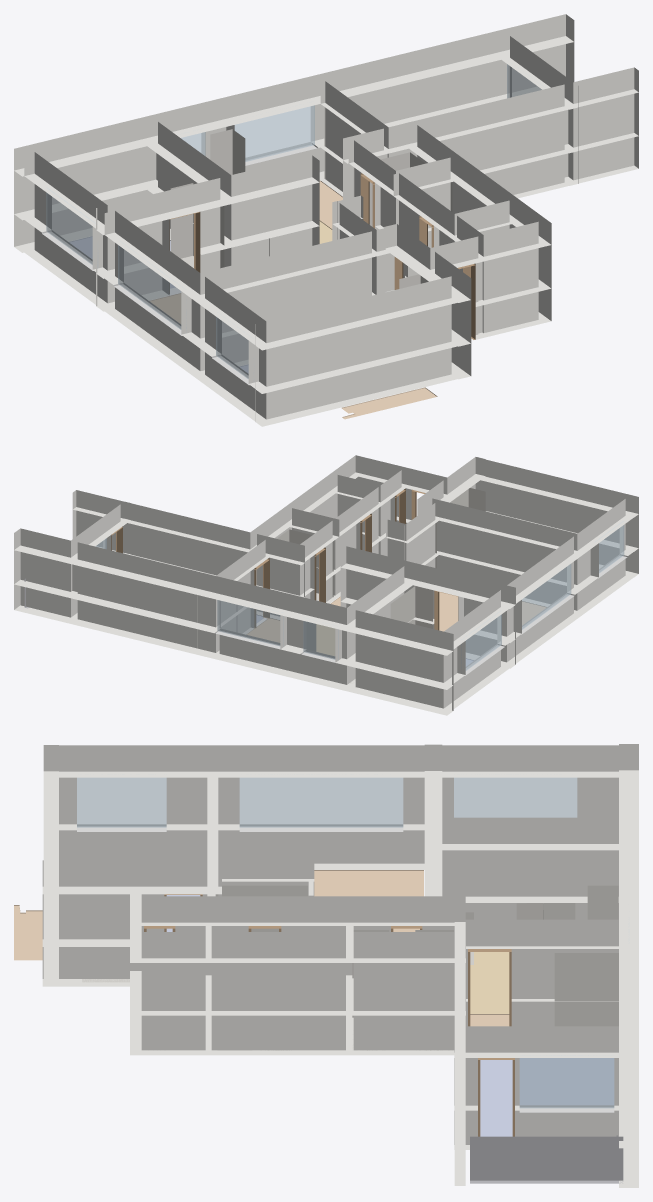
3 renders of one model, top to bottom at view 1: azimuth 30°, elevation 25°; view 2: azimuth 150°, elevation 25°; view 3: azimuth 270°, elevation 25°, orthographic. The views are drawn at different scales.
Visible parts, largest first — view 1: walls, window_0, window_7, window_3, furniture_2_closet, furniture_1_closet, window_5, floor_11_Living_Room, furniture_3_closet, sill_7, floor_2_Living_Room, window_2; view 2: walls, window_0, window_7, furniture_2_closet, window_3, window_1, floor_3_Living_Room, window_5, furniture_4_closet, furniture_6_closet, floor_1_Kitchen, door_10 (+2 smaller); view 3: walls, window_7, railings, floor_5_Bed_Room, window_3, window_2, furniture_0_closet, window_5, floor_3_Living_Room, floor_1_Kitchen, floor_11_Living_Room, furniture_5_closet (+3 smaller).
Boxes of the visible parts, bbox=[...] form: walls: bbox=[14, 14, 638, 426]; window_0: bbox=[234, 105, 314, 161]; window_7: bbox=[118, 243, 186, 329]; window_3: bbox=[46, 188, 97, 267]; furniture_2_closet: bbox=[170, 183, 224, 268]; furniture_1_closet: bbox=[210, 129, 245, 174]; window_5: bbox=[216, 317, 248, 378]; floor_11_Living_Room: bbox=[341, 387, 437, 419]; furniture_3_closet: bbox=[353, 152, 424, 226]; sill_7: bbox=[114, 283, 182, 335]; floor_2_Living_Room: bbox=[319, 180, 342, 228]; window_2: bbox=[507, 64, 541, 98]; walls: bbox=[14, 455, 638, 715]; window_0: bbox=[217, 600, 283, 646]; window_7: bbox=[522, 564, 571, 629]; furniture_2_closet: bbox=[390, 586, 432, 628]; window_3: bbox=[461, 611, 501, 672]; window_1: bbox=[303, 621, 338, 659]; floor_3_Living_Room: bbox=[330, 592, 546, 631]; window_5: bbox=[595, 521, 624, 573]; furniture_4_closet: bbox=[277, 529, 333, 600]; furniture_6_closet: bbox=[450, 488, 485, 511]; floor_1_Kitchen: bbox=[279, 624, 334, 655]; door_10: bbox=[314, 547, 325, 602]; walls: bbox=[42, 744, 638, 1187]; window_7: bbox=[239, 777, 403, 827]; railings: bbox=[470, 1135, 623, 1183]; floor_5_Bed_Room: bbox=[480, 1058, 613, 1136]; window_3: bbox=[454, 777, 577, 817]; window_2: bbox=[519, 1055, 614, 1108]; furniture_0_closet: bbox=[554, 953, 618, 1026]; window_5: bbox=[77, 777, 166, 827]; floor_3_Living_Room: bbox=[314, 870, 423, 931]; floor_1_Kitchen: bbox=[470, 952, 509, 1013]; floor_11_Living_Room: bbox=[14, 905, 42, 960]; furniture_5_closet: bbox=[215, 885, 307, 931].
Size of the model in its own units: 15.89 by 2.72 by 12.9.
